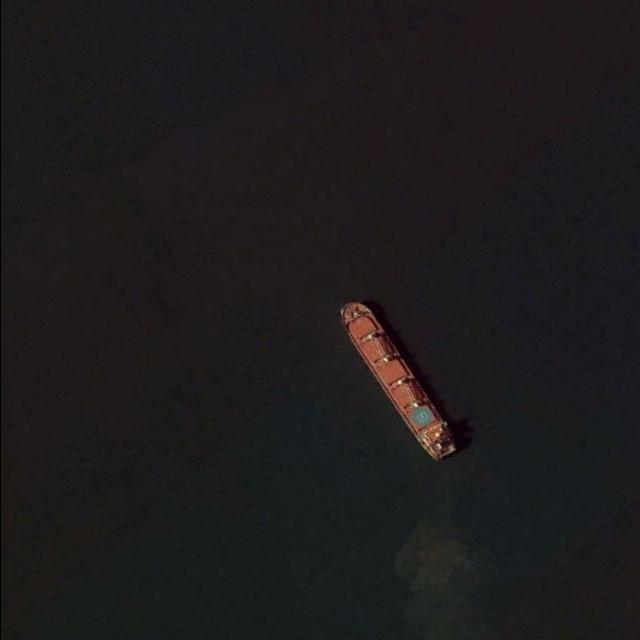ship: (341, 302, 456, 462)
